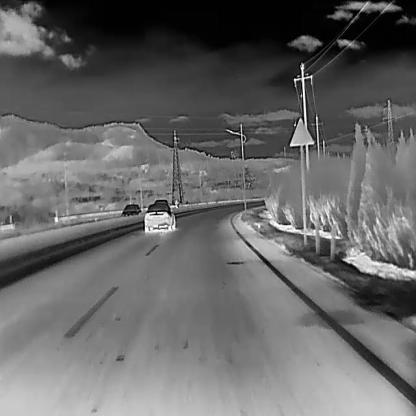car: (143, 202, 176, 233), (122, 203, 140, 217)
